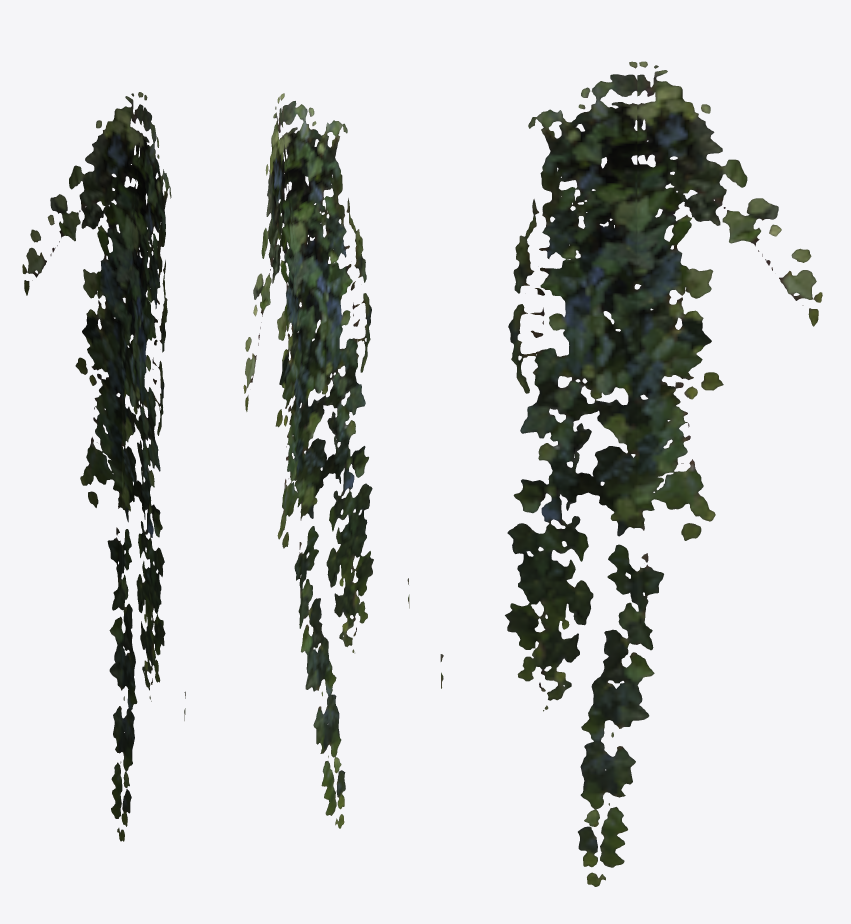
The model's file is popinavka_pramen_0.glb.
3 views of the same model, side by side, from view 1: azimuth 30°, elevation 25°; view 2: azimuth 150°, elevation 25°; view 3: azimuth 270°, elevation 25° (orthographic). The views are drawn at different scales.
Parts seen in each view (by area): view 1: popinavka_pramen_0; view 2: popinavka_pramen_0; view 3: popinavka_pramen_0.
Boxes of the visible parts, left/top/right/bottom form: popinavka_pramen_0: left=22, top=92, right=185, bottom=841; popinavka_pramen_0: left=243, top=93, right=409, bottom=828; popinavka_pramen_0: left=440, top=61, right=822, bottom=886.
Size of the model in its own units: 0.1909 by 1.79 by 0.7053.
1 material, 1 textured.
